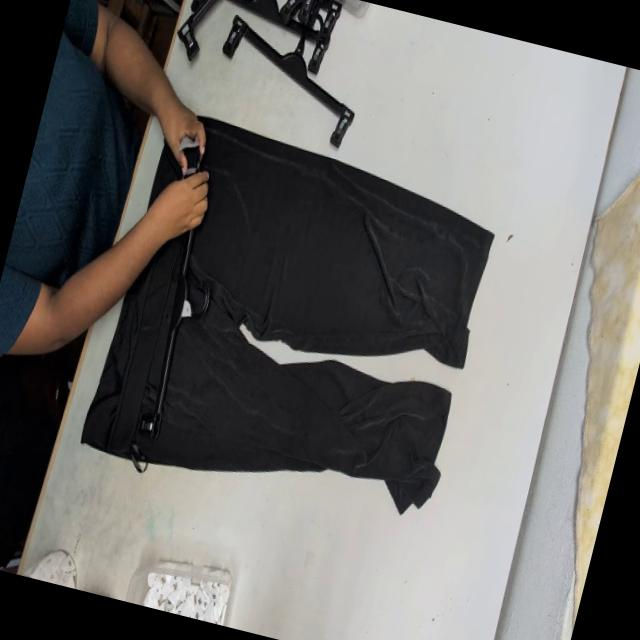new-garment: (82, 118, 492, 512), (82, 118, 493, 511), (152, 148, 179, 200)
